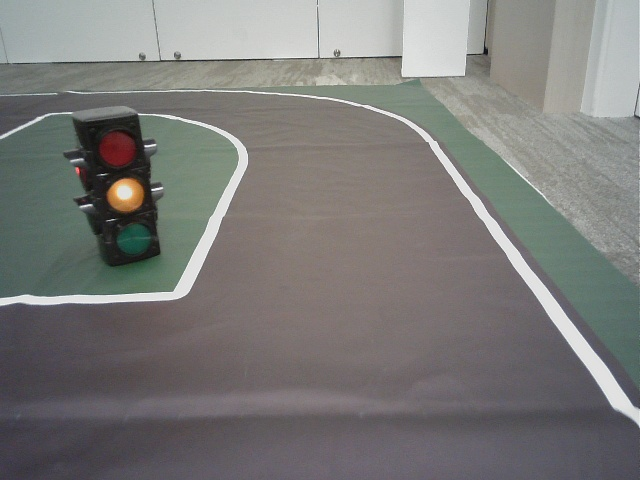yellow: (87, 124, 154, 253)
